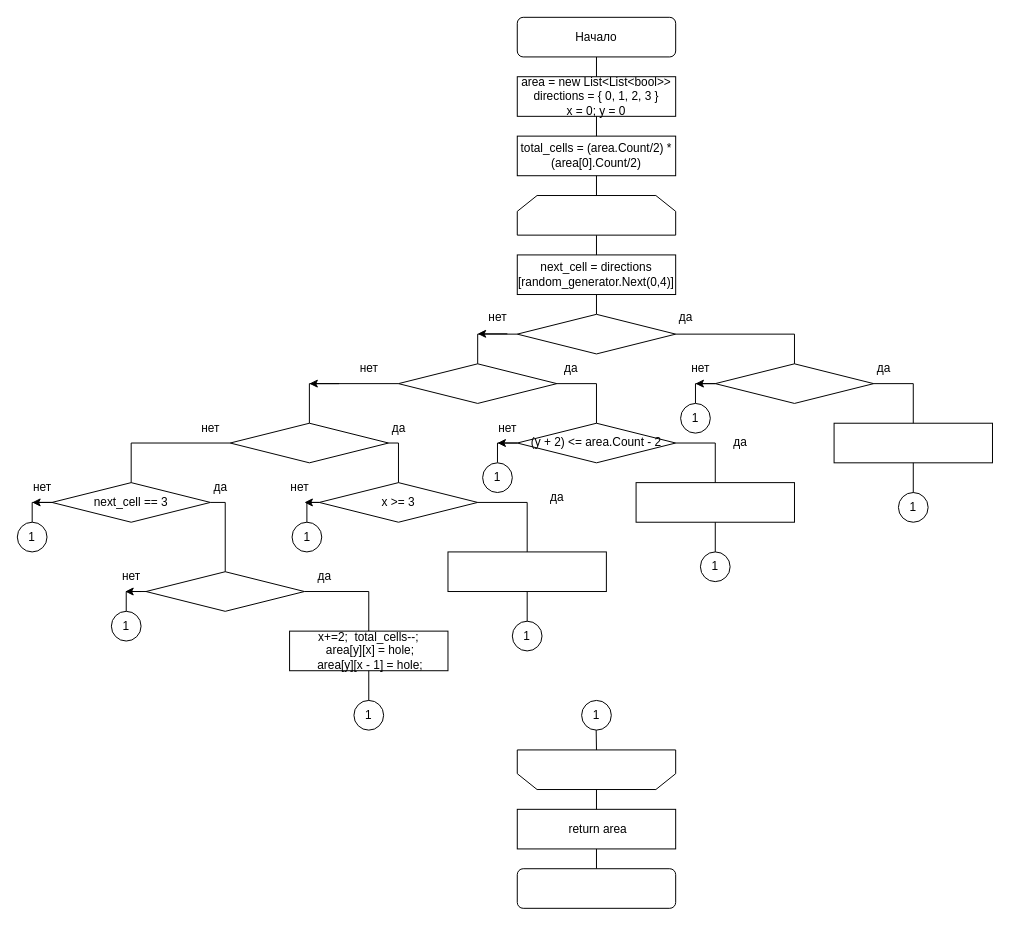
This 1010x926 diagram has some shape labels left out. The box of each missing label's shape, as (x1, y1, x2, y2) in pixels:
(x + 2) <= area[0].Count - 2: (145, 571, 304, 611)
next_cell == 0: (516, 313, 676, 354)
next_cell == 1: (397, 363, 557, 403)
next_cell == 2: (229, 422, 389, 463)
while (total_cells > 0): (516, 195, 676, 235)
x-+2; total_cells--; area[y][x] = hole; area[y][x + 1] = hole;: (447, 551, 606, 592)
y += 2; total_cells--; area[y][x] = hole; area[y - 1][x] = hole;: (635, 482, 794, 522)
y -= 2; total_cells--; area[y][x] = hole; area[y + 1][x] = hole;: (833, 422, 992, 463)
y >= 3: (714, 363, 874, 403)
Конец: (516, 868, 676, 908)
